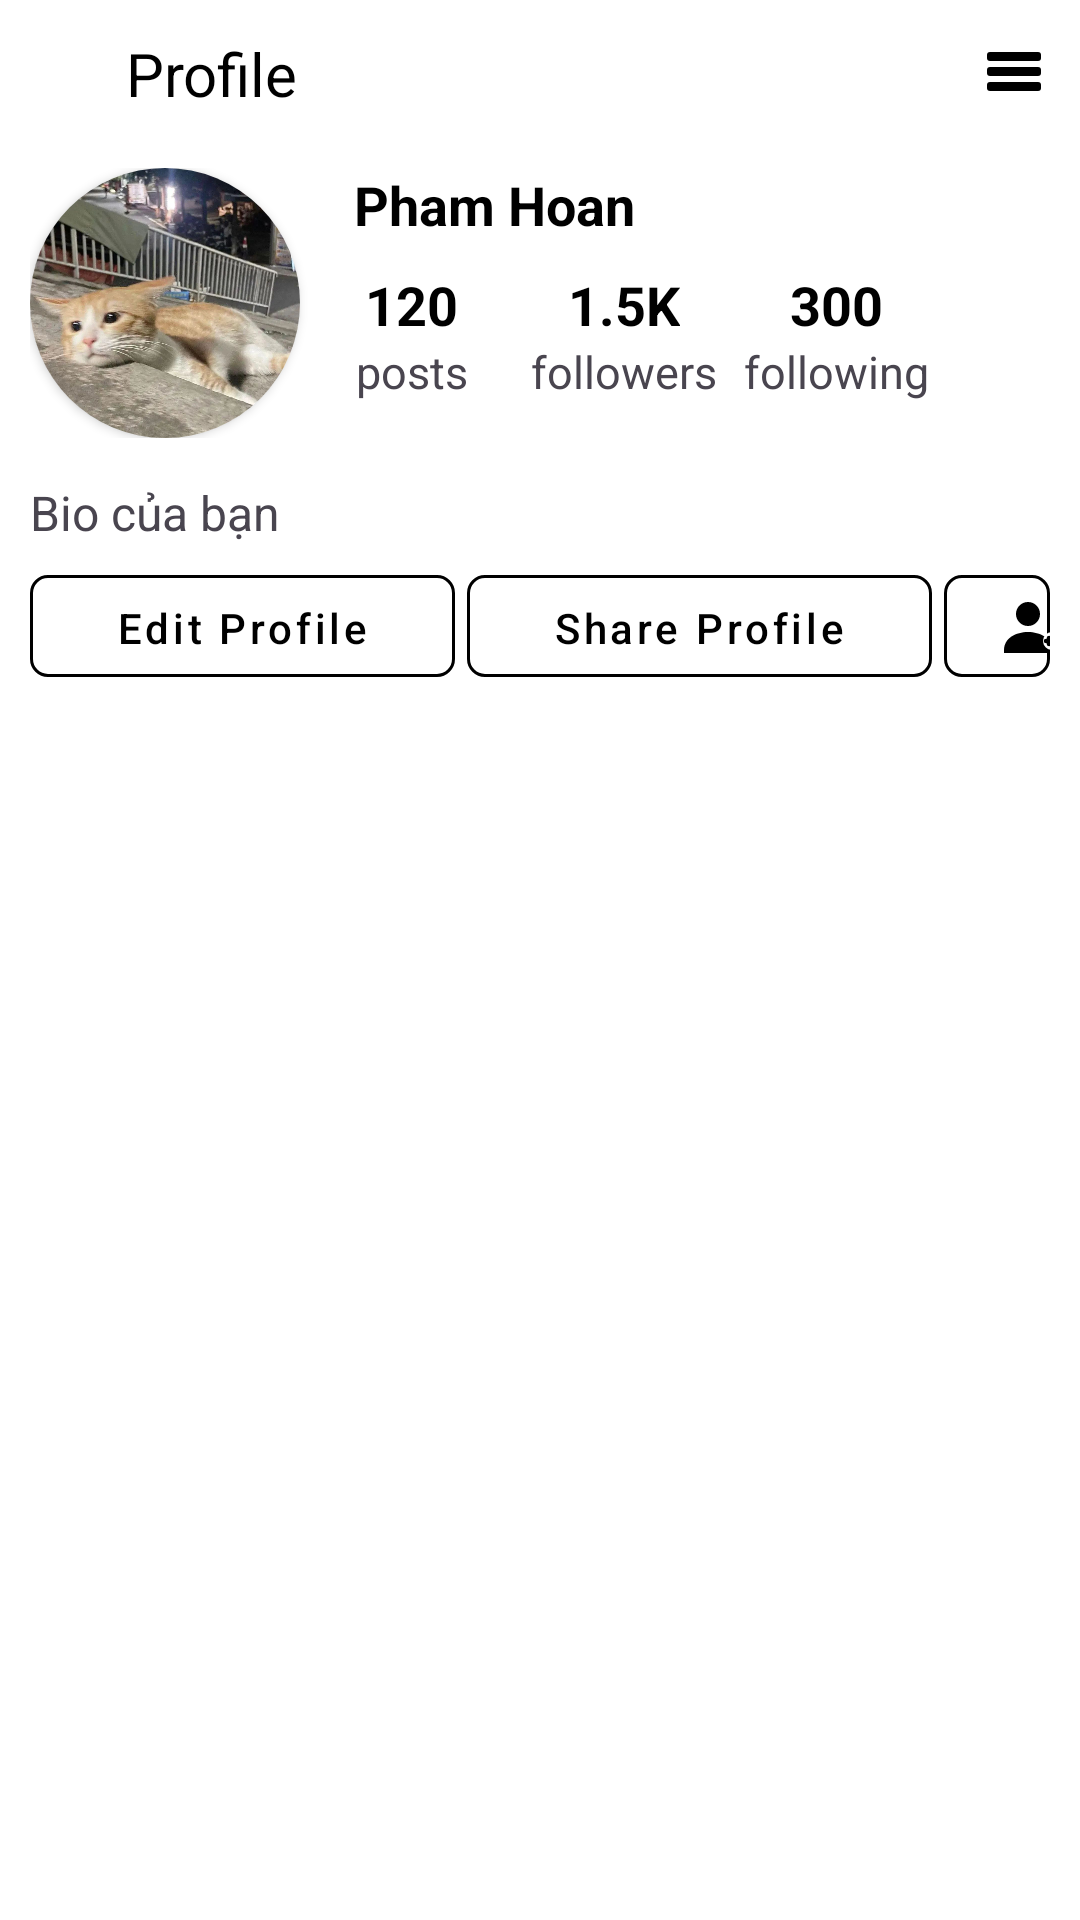

Icon click points for this 1080px x 1920px phone screenshot, format point (x, y):
Avatar: point (165, 303)
bar menu: point (1014, 71)
